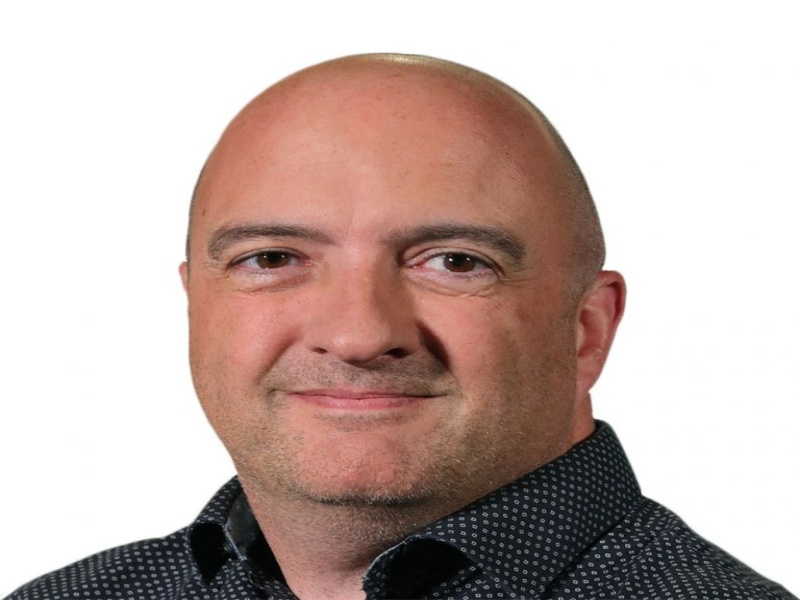face: (204, 149, 554, 474)
